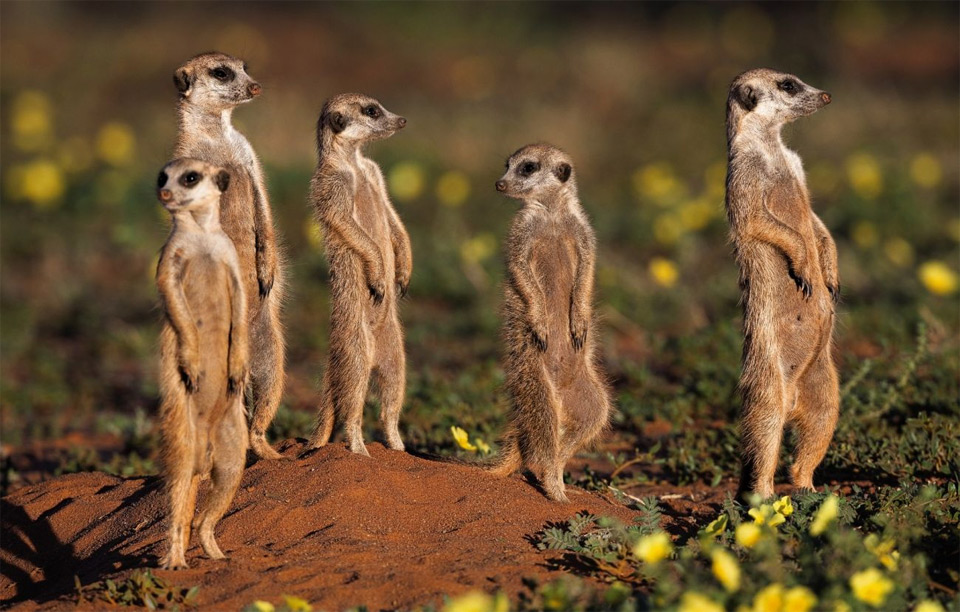meerkat: (297, 79, 461, 492), (478, 137, 644, 518), (712, 50, 848, 513)
